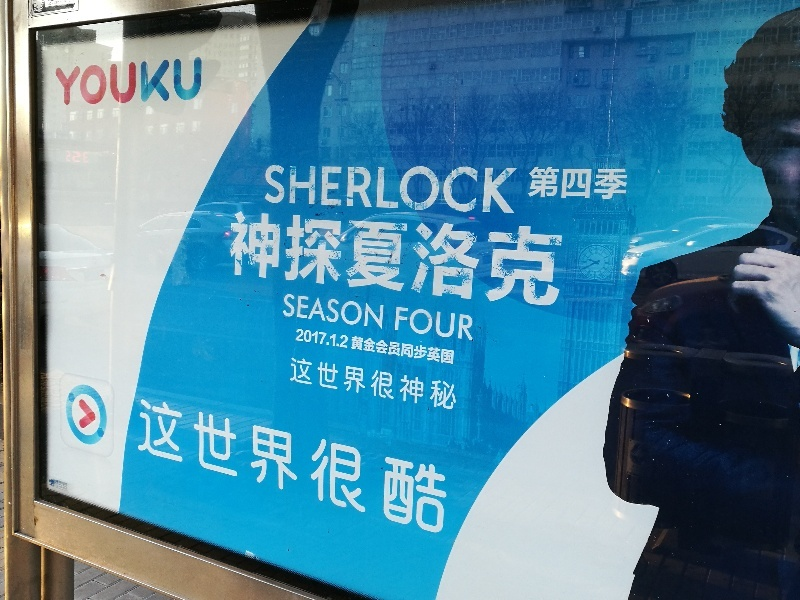text: (145, 396, 160, 537), (161, 396, 176, 537), (177, 396, 192, 537), (193, 396, 208, 537), (209, 396, 224, 537), (225, 396, 240, 537), (241, 396, 256, 537), (257, 396, 272, 537), (273, 396, 288, 537), (289, 396, 304, 537), (305, 396, 320, 537), (321, 396, 336, 537), (337, 396, 352, 537), (353, 396, 368, 537), (369, 396, 384, 537), (385, 396, 400, 537), (401, 396, 416, 537), (417, 396, 432, 537), (433, 396, 448, 537), (241, 210, 256, 308), (257, 210, 272, 308), (273, 210, 288, 308), (289, 210, 304, 308), (305, 210, 320, 308), (321, 210, 336, 308), (337, 210, 352, 308), (353, 210, 368, 308), (369, 210, 384, 308), (385, 210, 400, 308), (401, 210, 416, 308), (417, 210, 432, 308), (433, 210, 448, 308), (449, 210, 464, 308), (465, 210, 480, 308), (481, 210, 496, 308), (497, 210, 512, 308), (513, 210, 528, 308), (529, 210, 544, 308), (545, 210, 560, 308), (229, 210, 240, 308), (193, 57, 209, 109), (305, 357, 320, 412), (321, 357, 336, 412), (337, 357, 352, 412), (353, 357, 368, 412), (369, 357, 384, 412), (385, 357, 400, 412), (401, 357, 416, 412), (417, 357, 432, 412), (433, 357, 448, 412), (65, 57, 80, 109), (81, 57, 96, 109), (97, 57, 112, 109), (113, 57, 128, 109), (129, 57, 144, 109), (145, 57, 160, 109), (161, 57, 176, 109), (177, 57, 192, 109), (273, 163, 288, 215), (289, 163, 304, 215), (305, 163, 320, 215), (321, 163, 336, 215), (337, 163, 352, 215), (353, 163, 368, 215), (369, 163, 384, 215), (385, 163, 400, 215), (401, 163, 416, 215), (417, 163, 432, 215), (433, 163, 448, 215), (449, 163, 464, 215), (465, 163, 480, 215), (481, 163, 496, 215), (497, 163, 512, 215), (292, 357, 304, 412), (449, 357, 460, 412), (289, 292, 304, 331), (305, 292, 320, 331), (321, 292, 336, 331), (337, 292, 352, 331), (353, 292, 368, 331), (369, 292, 384, 331), (140, 396, 144, 537), (401, 306, 416, 342), (417, 306, 432, 342), (433, 306, 448, 342), (449, 306, 464, 342), (529, 168, 544, 201), (545, 168, 560, 201), (561, 168, 576, 201), (577, 168, 592, 201), (593, 168, 608, 201), (609, 168, 624, 201), (561, 210, 566, 308), (55, 57, 64, 109), (263, 163, 272, 215), (465, 306, 478, 342), (353, 335, 368, 366), (369, 335, 384, 366), (385, 335, 400, 366), (401, 335, 416, 366), (417, 335, 432, 366), (433, 335, 448, 366), (513, 163, 520, 215), (305, 328, 320, 350), (321, 328, 336, 350), (337, 328, 351, 350), (449, 335, 456, 366), (395, 306, 400, 342), (284, 292, 288, 331), (297, 328, 304, 350), (449, 396, 450, 537), (625, 168, 629, 201), (385, 292, 388, 331)
